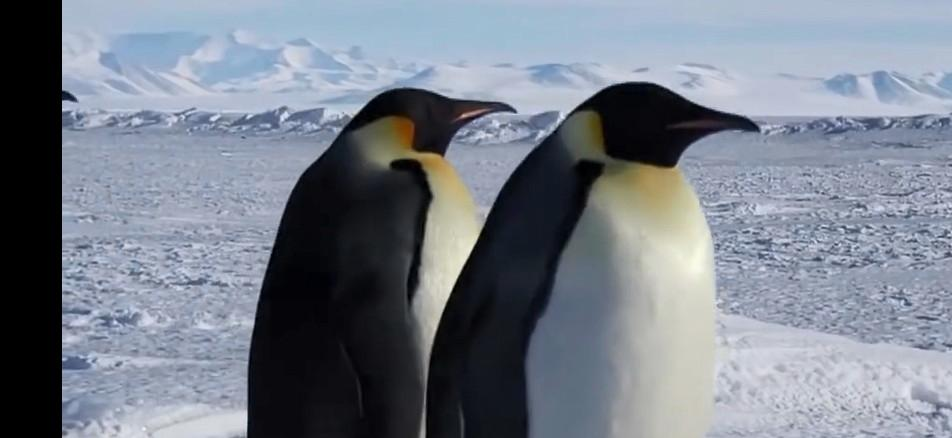Emperor Penguin: (420, 67, 810, 438), (238, 47, 513, 438)
